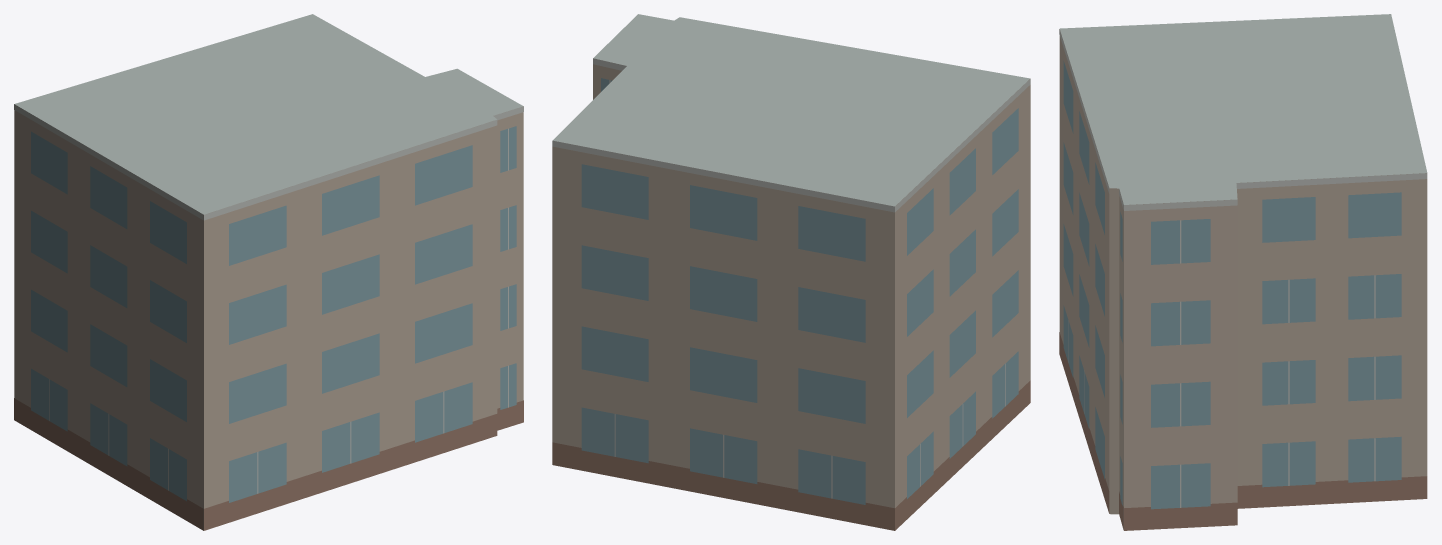
Rendered from survey-upis-32621849.glb.
3 views of the same model, side by side, from view 1: azimuth 30°, elevation 25°; view 2: azimuth 150°, elevation 25°; view 3: azimuth 270°, elevation 25° (orthographic). The views are drawn at different scales.
Visible parts, largest first — view 1: survey-upis-32621849.tmp; view 2: survey-upis-32621849.tmp; view 3: survey-upis-32621849.tmp.
Boxes of the visible parts, bbox=[...] form: survey-upis-32621849.tmp: bbox=[14, 14, 523, 530]; survey-upis-32621849.tmp: bbox=[552, 14, 1030, 530]; survey-upis-32621849.tmp: bbox=[1059, 14, 1427, 530].
Size of the model in its own units: 16.61 by 13.2 by 13.52.
